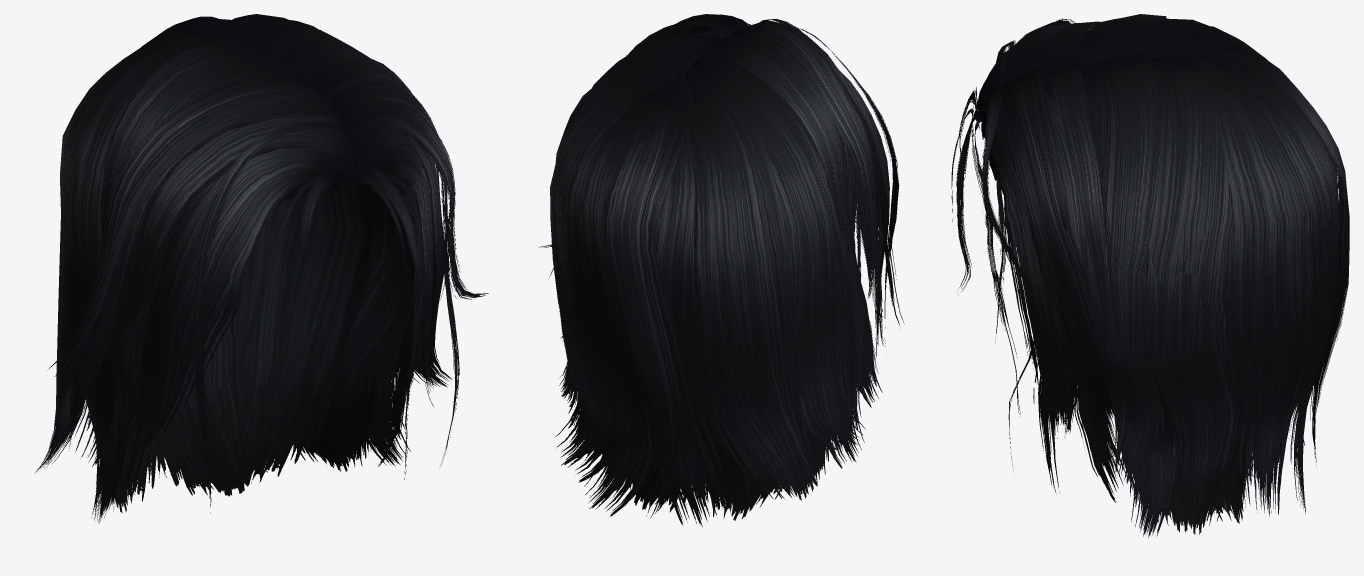
Rendered from haircut.fbx.
3 views of the same model, side by side, from view 1: azimuth 30°, elevation 25°; view 2: azimuth 150°, elevation 25°; view 3: azimuth 270°, elevation 25° (orthographic). The views are drawn at different scales.
Parts seen in each view (by area): view 1: Head; view 2: Head; view 3: Head.
Part boxes in pixels (left/top/right/bottom): Head: left=35, top=14, right=488, bottom=523; Head: left=539, top=14, right=904, bottom=526; Head: left=951, top=14, right=1349, bottom=537.
Size of the model in its own units: 0.2748 by 0.3012 by 0.2252.
Materials: 1 (1 with a texture image).
